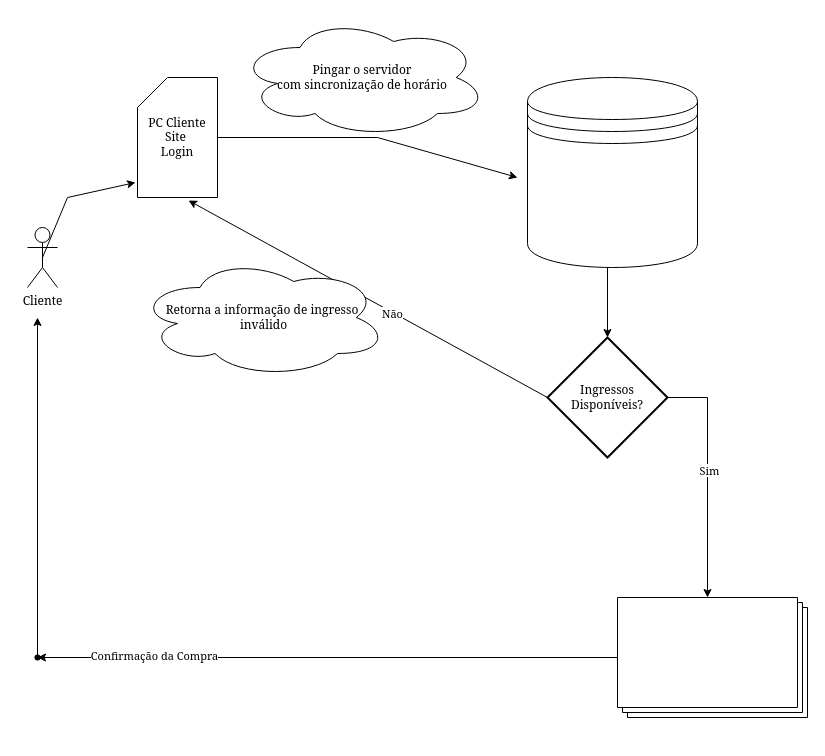
Some shapes in this 825 by 756 pixel diagram are drawn without their labels. The centre of each missing label's shape, as x and y in pixels:
"Fila de Espera" belongs at pixel 712 657.
"Servidor" belongs at pixel 612 172.
